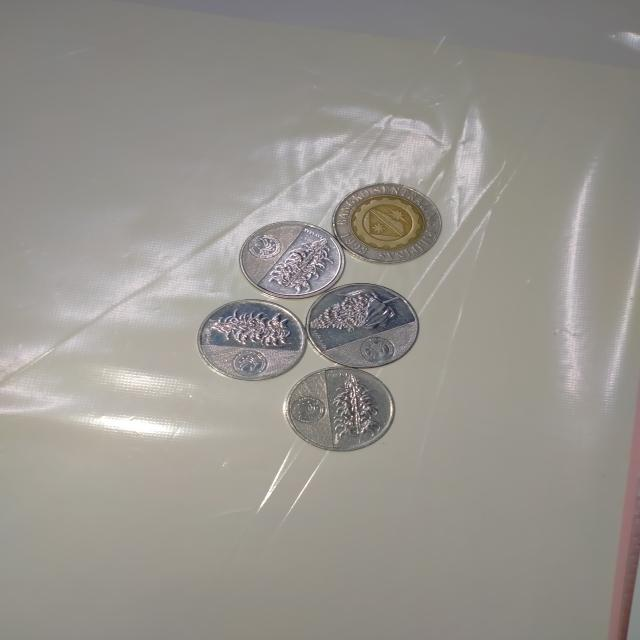10_New_Back: (304, 280, 410, 337)
10_Old_Back: (330, 182, 448, 266)
5_New_Back: (324, 372, 386, 447), (204, 307, 298, 353)
